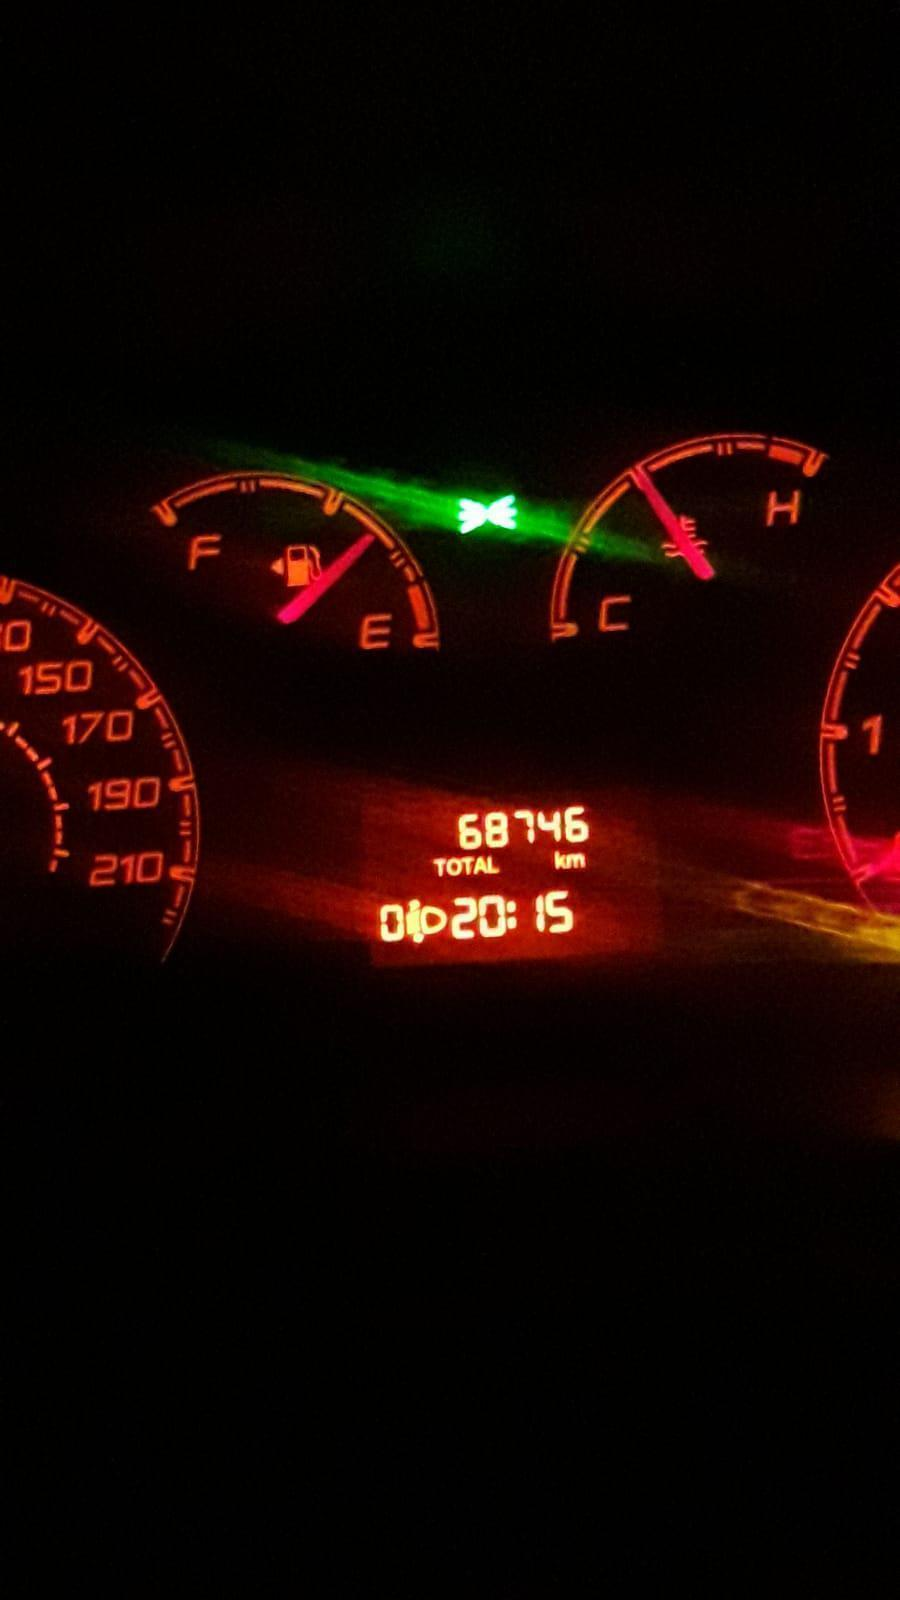0: (478, 895, 505, 938), (378, 902, 404, 943)
1: (533, 893, 546, 933)
2: (451, 895, 478, 941)
4: (537, 808, 562, 842)
5: (545, 890, 575, 934)
6: (456, 813, 482, 851), (563, 805, 588, 843)
7: (513, 808, 536, 844)
8: (484, 809, 509, 848)
X: (505, 897, 519, 933), (566, 851, 586, 870), (554, 849, 569, 870), (446, 857, 462, 877), (474, 854, 487, 876), (432, 857, 445, 878), (462, 855, 474, 877), (487, 855, 499, 875)
odometer: (347, 775, 682, 974)
